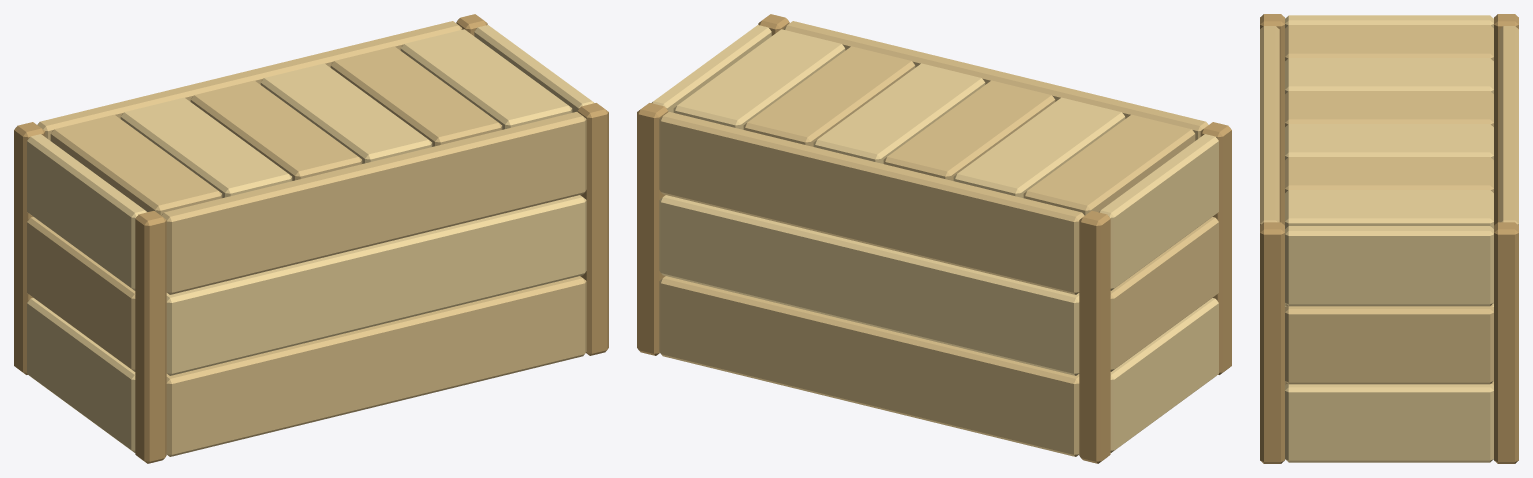
The model's file is FTF_Prop_WoodenCrate_2x1x1m.glb.
The picture shows the model from 3 angles, left to right: view 1: azimuth 30°, elevation 25°; view 2: azimuth 150°, elevation 25°; view 3: azimuth 270°, elevation 25°; orthographic projection. The views are drawn at different scales.
Parts seen in each view (by area): view 1: Crate_BackFrontBack_0_1, Crate_BackFrontBack_1_1, Crate_CornerBatten; view 2: Crate_BackFrontBack_0_1, Crate_BackFrontBack_1_1, Crate_CornerBatten; view 3: Crate_BackFrontBack_1_1, Crate_BackFrontBack_0_1, Crate_CornerBatten.
Boxes of the visible parts, bbox=[...] form: Crate_BackFrontBack_0_1: bbox=[27, 21, 586, 456]; Crate_BackFrontBack_1_1: bbox=[27, 25, 594, 452]; Crate_CornerBatten: bbox=[14, 14, 608, 463]; Crate_BackFrontBack_0_1: bbox=[659, 21, 1218, 456]; Crate_BackFrontBack_1_1: bbox=[651, 25, 1218, 452]; Crate_CornerBatten: bbox=[637, 14, 1231, 463]; Crate_BackFrontBack_1_1: bbox=[1285, 15, 1493, 462]; Crate_BackFrontBack_0_1: bbox=[1260, 25, 1518, 385]; Crate_CornerBatten: bbox=[1260, 14, 1518, 463].
Size of the model in its own units: 2 by 1 by 1.
